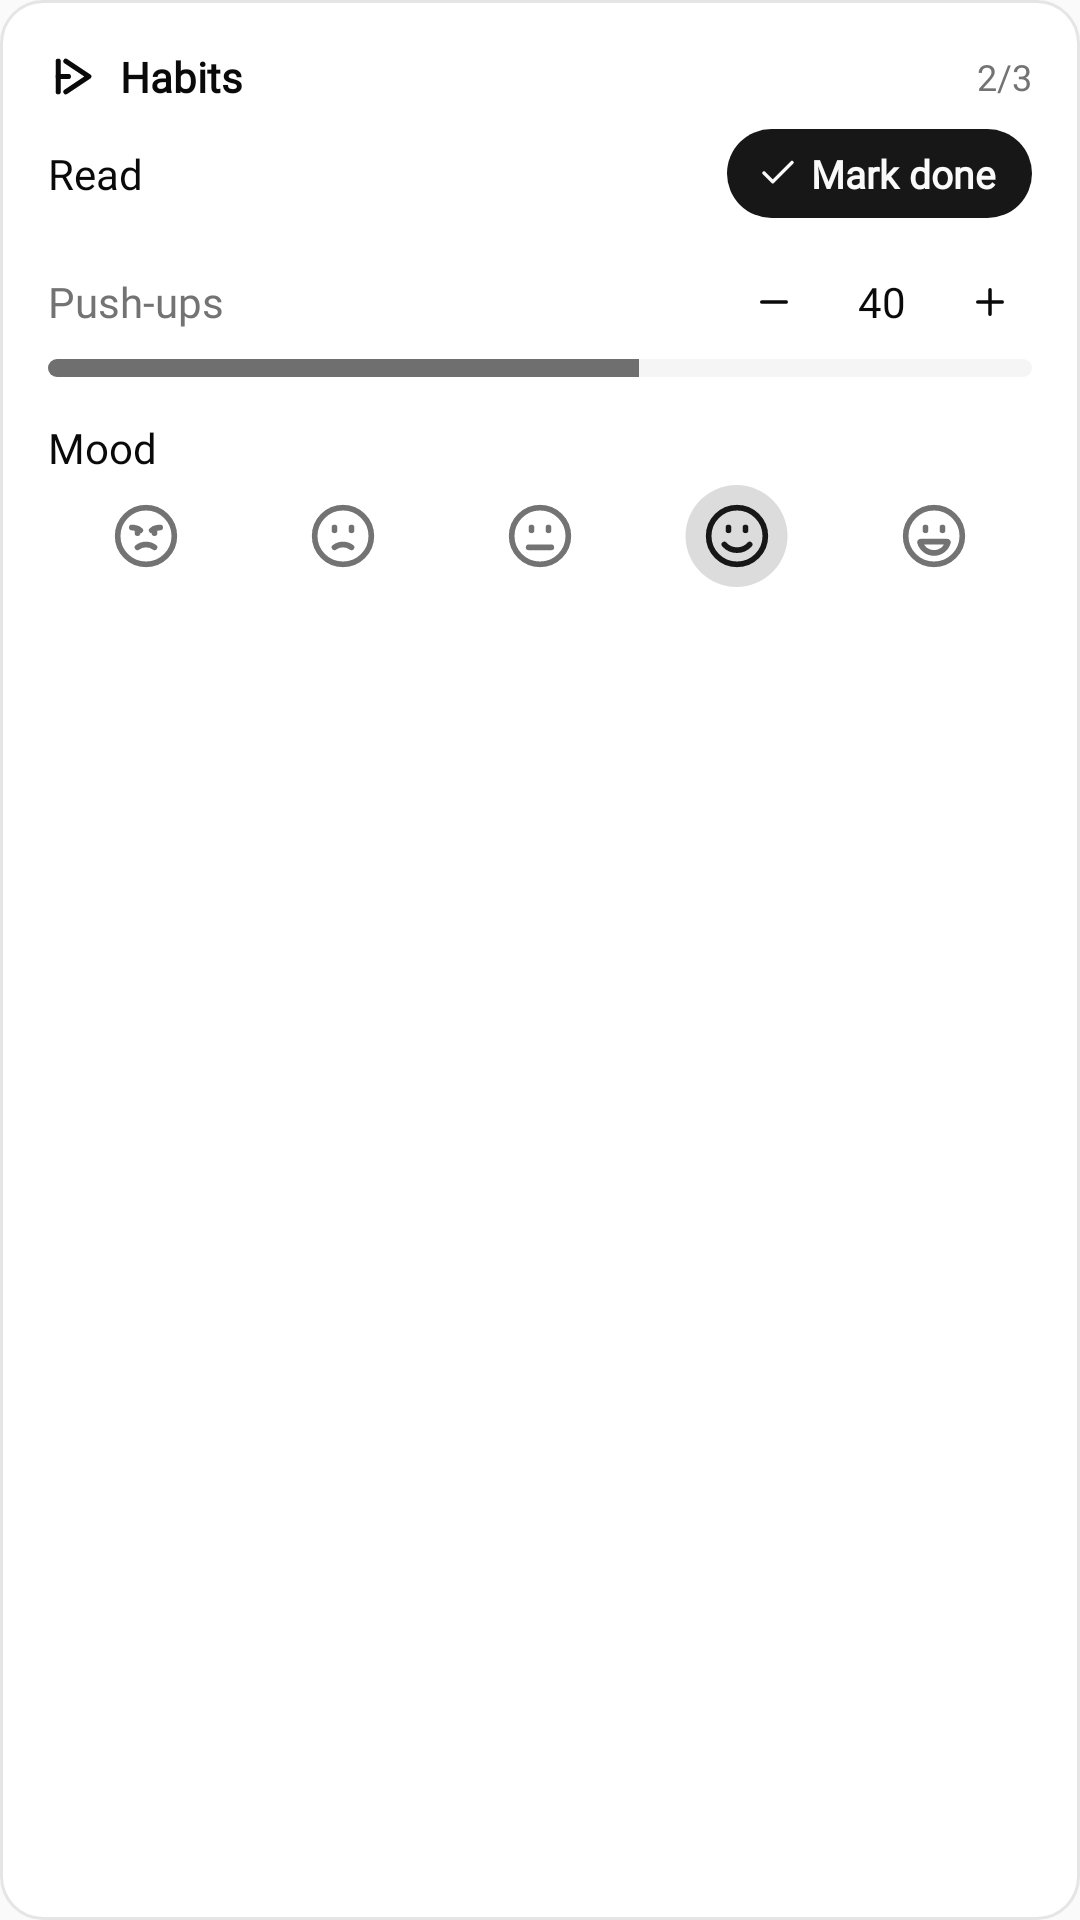

Icons on this 1080 x 1920 Android screen, each with its box as (x1, y1, x2, y2):
widget check on: (762, 160, 794, 184)
widget face off: (115, 505, 177, 567), (312, 505, 374, 567), (509, 505, 571, 567), (903, 505, 965, 567)
widget face on: (686, 485, 787, 587)
widget plus: (976, 288, 1004, 316)
